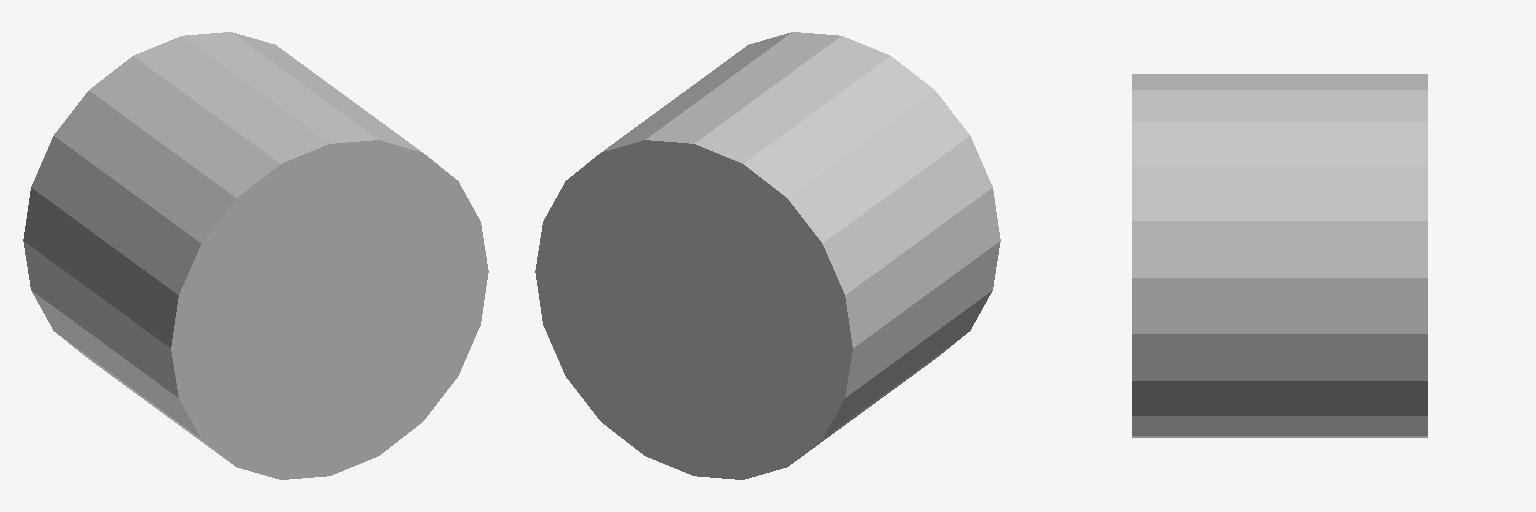
File: Resaltado_Nervio_occipital_menor_I_2.obj
3 renders of one model, left to right at view 1: azimuth 30°, elevation 25°; view 2: azimuth 150°, elevation 25°; view 3: azimuth 270°, elevation 25°, orthographic.
Visible parts, largest first — view 1: polySurface45 polySurface21 Marcadores1; view 2: polySurface45 polySurface21 Marcadores1; view 3: polySurface45 polySurface21 Marcadores1.
Boxes of the visible parts, x1=… form: polySurface45 polySurface21 Marcadores1: x1=23, y1=32, x2=488, y2=479; polySurface45 polySurface21 Marcadores1: x1=535, y1=32, x2=1000, y2=479; polySurface45 polySurface21 Marcadores1: x1=1132, y1=74, x2=1427, y2=437.
Bounding box in the file's own units: 0.0375 × 0.0375 × 0.0302.